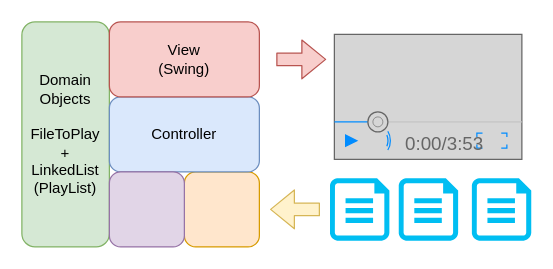
Some shapes in this 553 by 269 pixel diagram are drawn without their labels. The centre of each missing label's shape, as x and y in pixels:
"Audio Layer" goes at (x=146, y=209).
"DAO" goes at (x=221, y=209).
